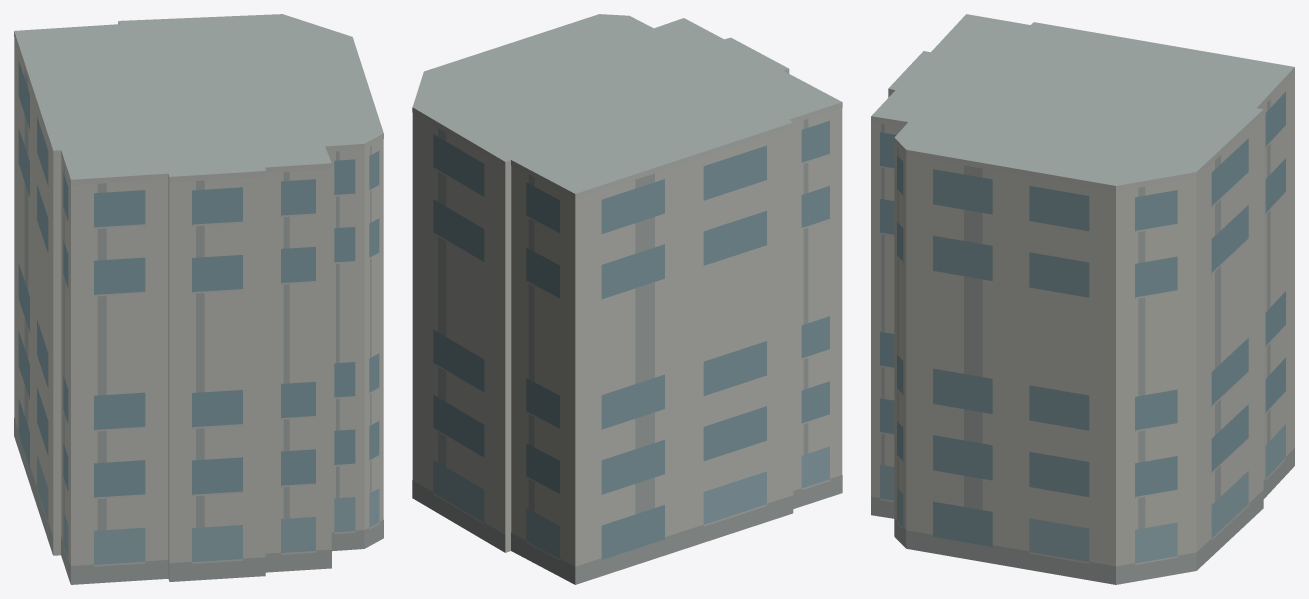
File: survey-upis-32877145.glb
3 renders of one model, left to right at view 1: azimuth 30°, elevation 25°; view 2: azimuth 150°, elevation 25°; view 3: azimuth 270°, elevation 25°, orthographic. The views are drawn at different scales.
Visible parts, largest first — view 1: survey-upis-32877145.tmp; view 2: survey-upis-32877145.tmp; view 3: survey-upis-32877145.tmp.
Boxes of the visible parts, left/top/right/bottom form: survey-upis-32877145.tmp: left=14, top=14, right=383, bottom=584; survey-upis-32877145.tmp: left=412, top=14, right=842, bottom=584; survey-upis-32877145.tmp: left=871, top=14, right=1294, bottom=584.
Bounding box in the file's own units: 15.91 × 17.2 × 16.57.
